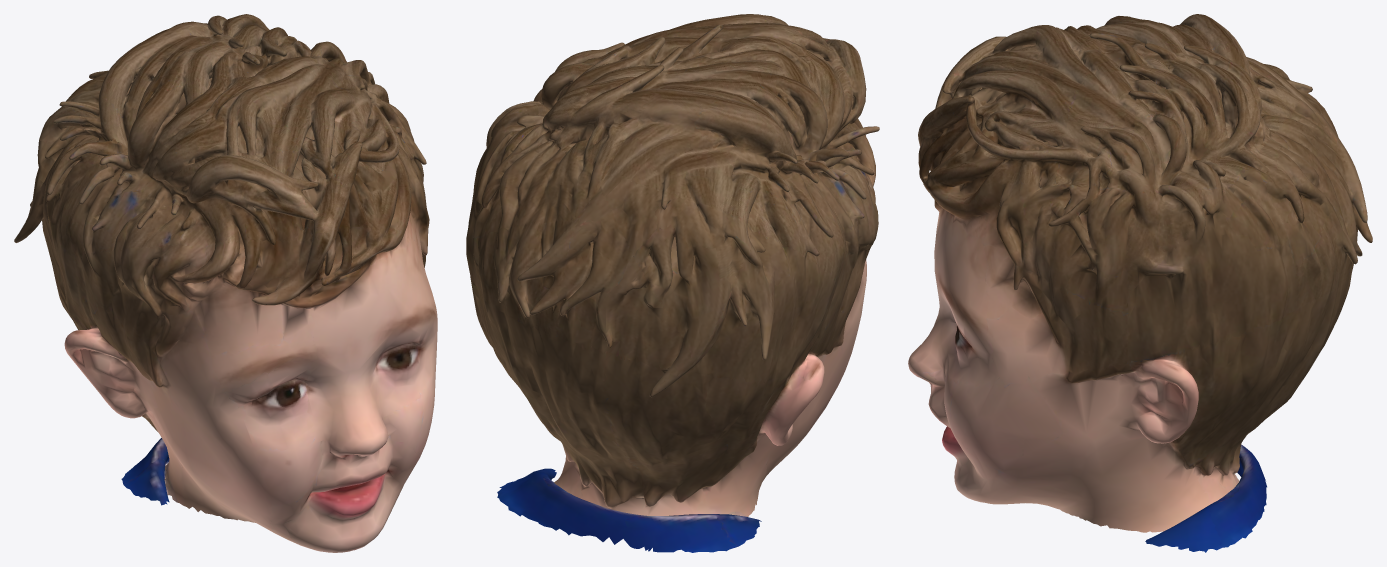
The model's file is AfonsoHead.glb.
3 renders of one model, left to right at view 1: azimuth 30°, elevation 25°; view 2: azimuth 150°, elevation 25°; view 3: azimuth 270°, elevation 25°, orthographic. The views are drawn at different scales.
Parts seen in each view (by area): view 1: Mesh_0; view 2: Mesh_0; view 3: Mesh_0.
Part boxes in pixels (<box>): Mesh_0: <box>14,14,437,552</box>; Mesh_0: <box>466,14,879,552</box>; Mesh_0: <box>908,14,1372,552</box>.
Size of the model in its own units: 0.3389 by 0.4156 by 0.395.
Materials: 1 (1 with a texture image).
